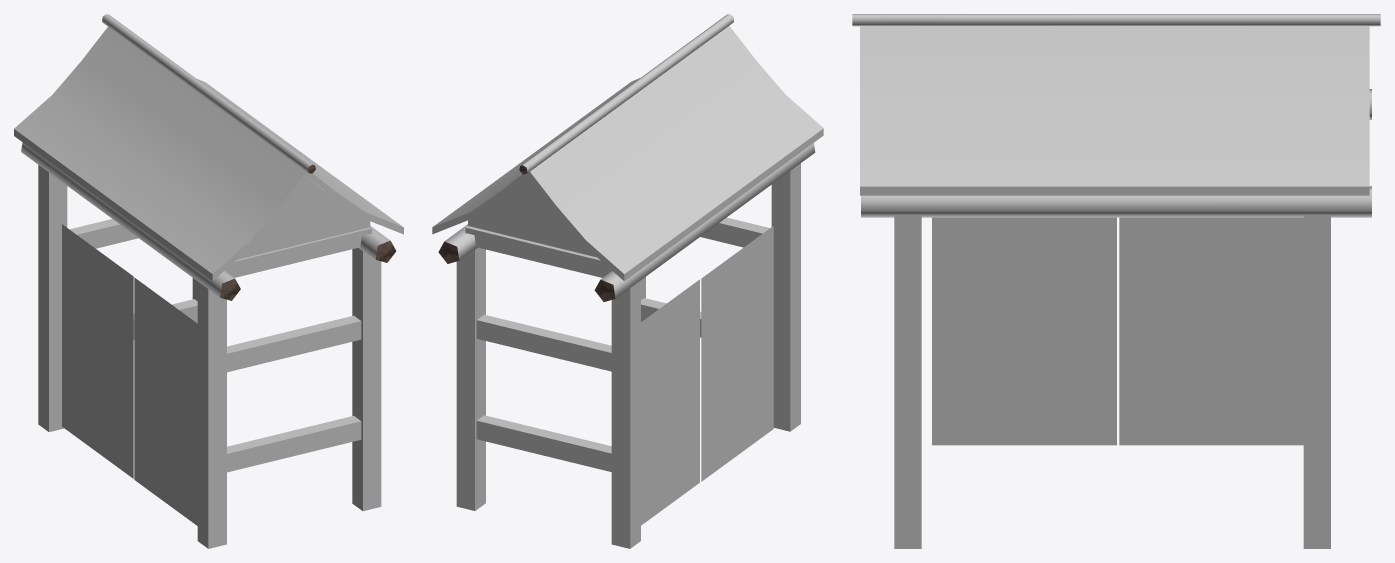
The model's file is gate_lod2.fbx.
3 views of the same model, side by side, from view 1: azimuth 30°, elevation 25°; view 2: azimuth 150°, elevation 25°; view 3: azimuth 270°, elevation 25° (orthographic). The views are drawn at different scales.
Visible parts, largest first — view 1: gate_lod2, door_1_lod2, door_2_lod2; view 2: gate_lod2, door_2_lod2, door_1_lod2; view 3: gate_lod2, door_1_lod2, door_2_lod2.
Boxes of the visible parts, left/top/right/bottom form: gate_lod2: left=14, top=14, right=403, bottom=548; door_1_lod2: left=62, top=224, right=133, bottom=478; door_2_lod2: left=134, top=277, right=197, bottom=525; gate_lod2: left=432, top=14, right=823, bottom=548; door_2_lod2: left=701, top=226, right=773, bottom=481; door_1_lod2: left=641, top=279, right=699, bottom=525; gate_lod2: left=852, top=14, right=1380, bottom=548; door_1_lod2: left=1119, top=217, right=1303, bottom=445; door_2_lod2: left=932, top=217, right=1116, bottom=445.
Bounding box in the file's own units: 6.2 × 11.6 × 11.54.
